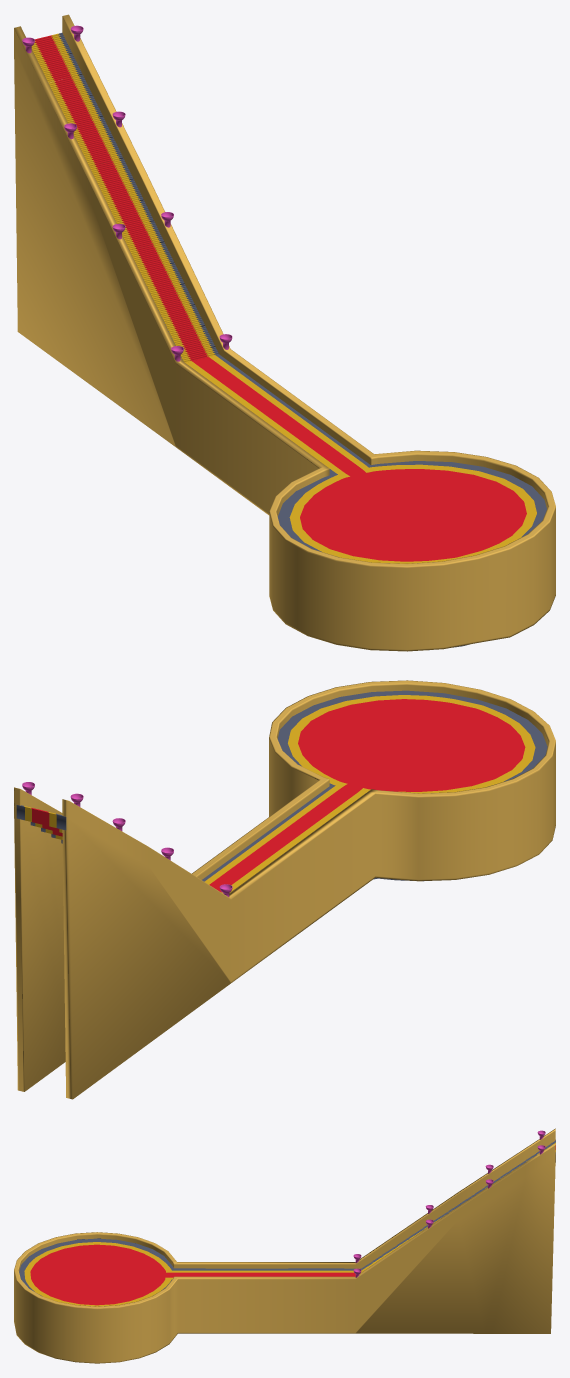
Rendered from Sala_cristales_plataforma.fbx.
3 renders of one model, top to bottom at view 1: azimuth 30°, elevation 25°; view 2: azimuth 150°, elevation 25°; view 3: azimuth 270°, elevation 25°, orthographic. The views are drawn at different scales.
Parts seen in each view (by area): view 1: Cube.016, Cylinder.005, stairs.008, stairs.001, Sphere.001; view 2: Cube.016, Cylinder.005, stairs.008, Sphere.001; view 3: Cube.016, Cylinder.005, stairs.001, Sphere.001.
Boxes of the visible parts, <box> form: Cube.016: <box>14,14,555,651</box>; Cylinder.005: <box>186,354,546,563</box>; stairs.008: <box>31,33,218,362</box>; stairs.001: <box>31,33,218,362</box>; Sphere.001: <box>22,25,232,361</box>; Cube.016: <box>14,680,555,1099</box>; Cylinder.005: <box>202,690,547,893</box>; stairs.008: <box>16,805,66,843</box>; Sphere.001: <box>22,782,232,896</box>; Cube.016: <box>14,1128,555,1363</box>; Cylinder.005: <box>19,1238,361,1306</box>; stairs.001: <box>361,1140,555,1272</box>; Sphere.001: <box>353,1130,545,1277</box>.
Size of the model in its own units: 1280 by 1476 by 3837.
